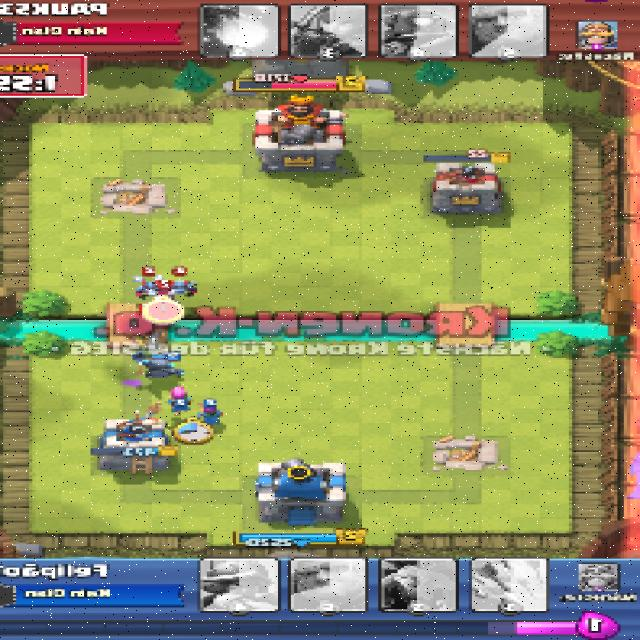Enemy-Minion: (166, 279, 192, 297), (135, 276, 158, 294)
Player-Archer: (166, 387, 191, 410), (201, 406, 227, 427)
Player-MiniPEKKA: (138, 355, 187, 381)
